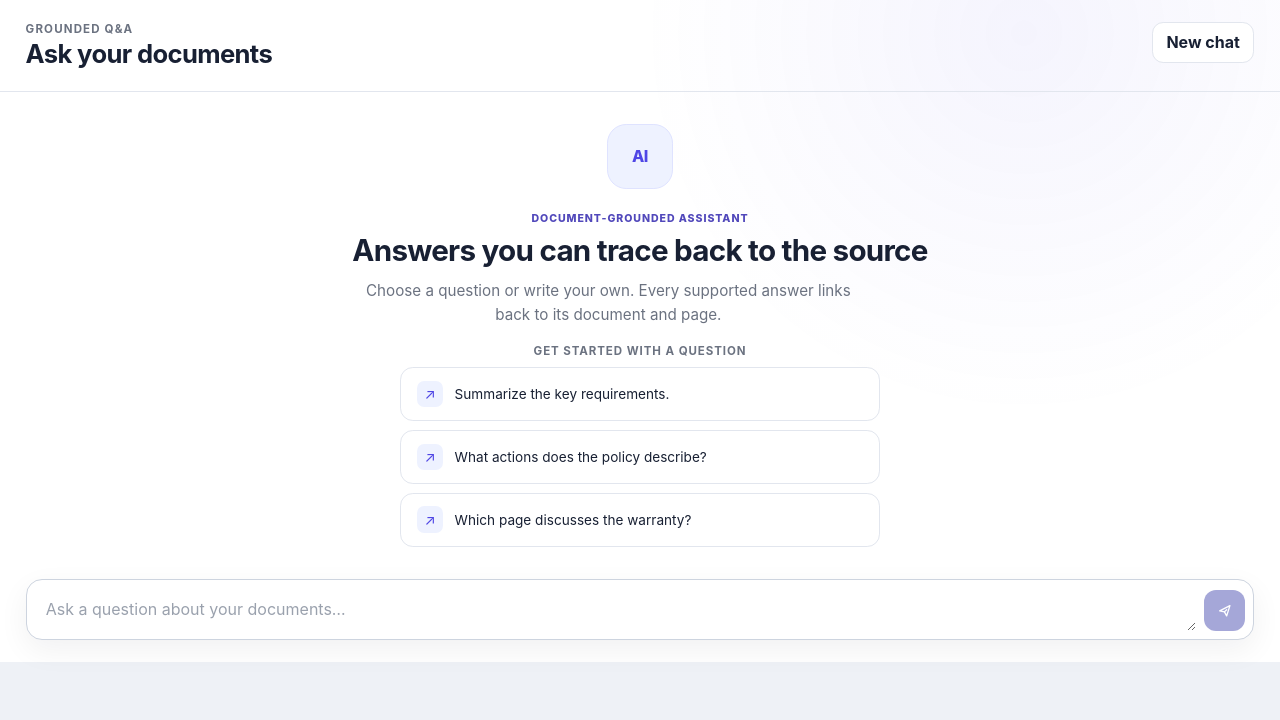
Test: ChatPanel › presents an unsupported question as a neutral document result
Type "Who won the World Cup?" into the text box labelled "Ask a question about your documents" at (615, 610), box [35,588,1196,632]
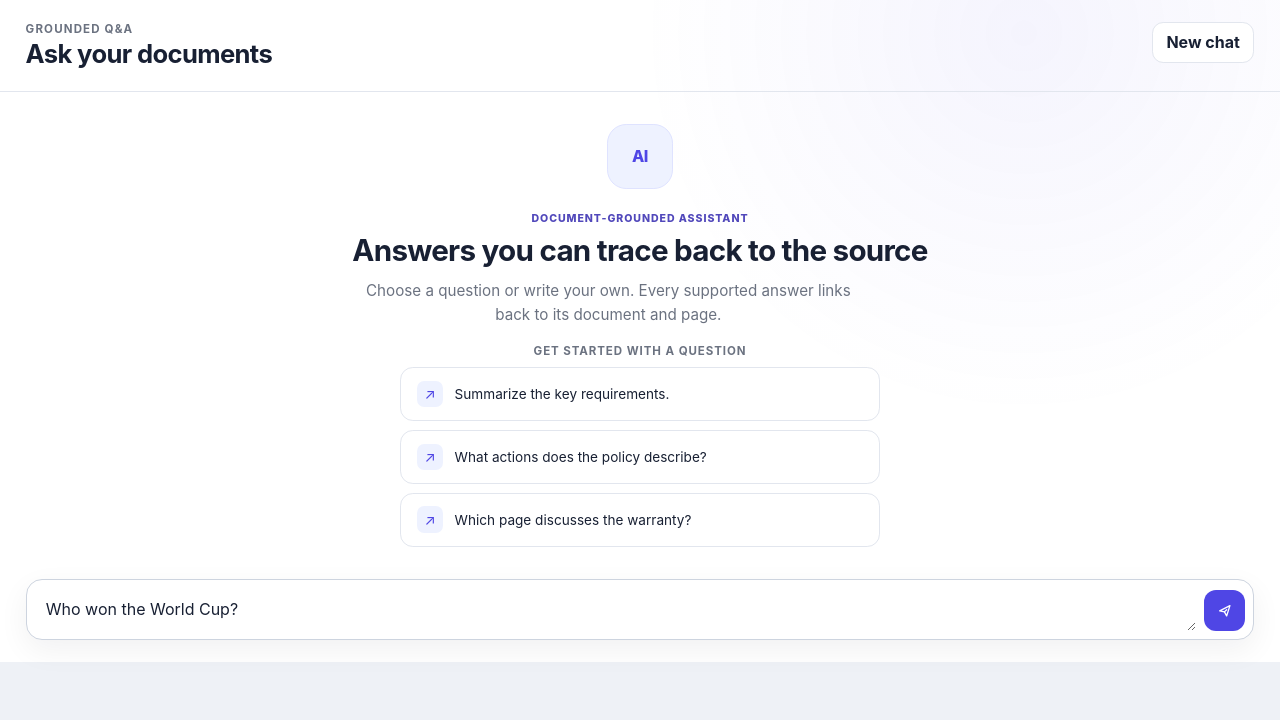
Click the button named "Send question" at (1225, 611), box [1204,590,1245,632]
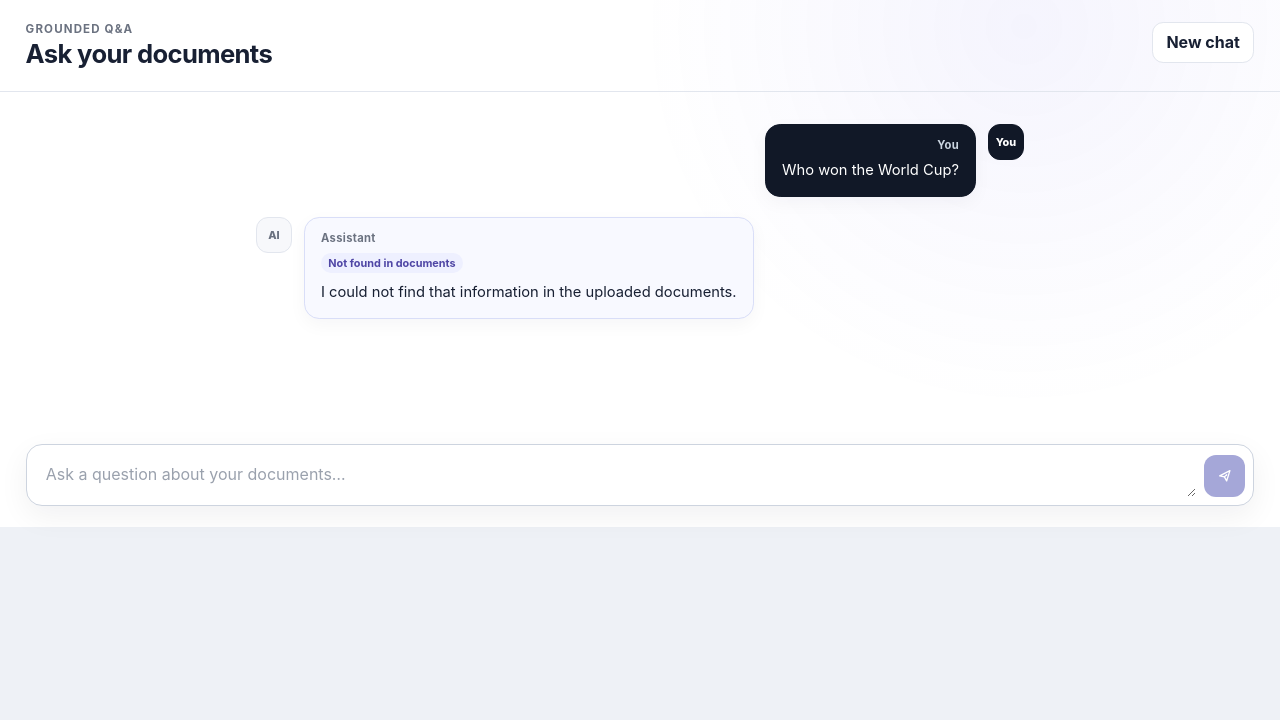
Expected: the text "Not found in documents" is shown, [321,253,463,273]
Expected: the text "I could not find that information in the uploaded documents." is shown, [321,280,737,304]
